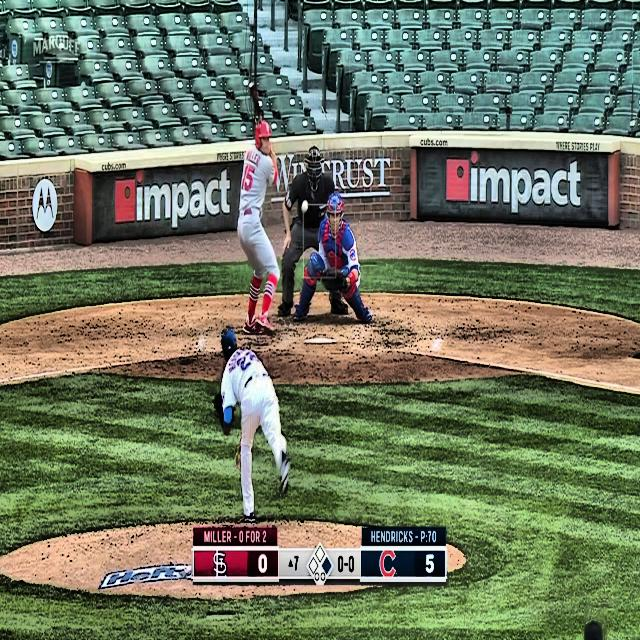baseball: (301, 199, 309, 215)
